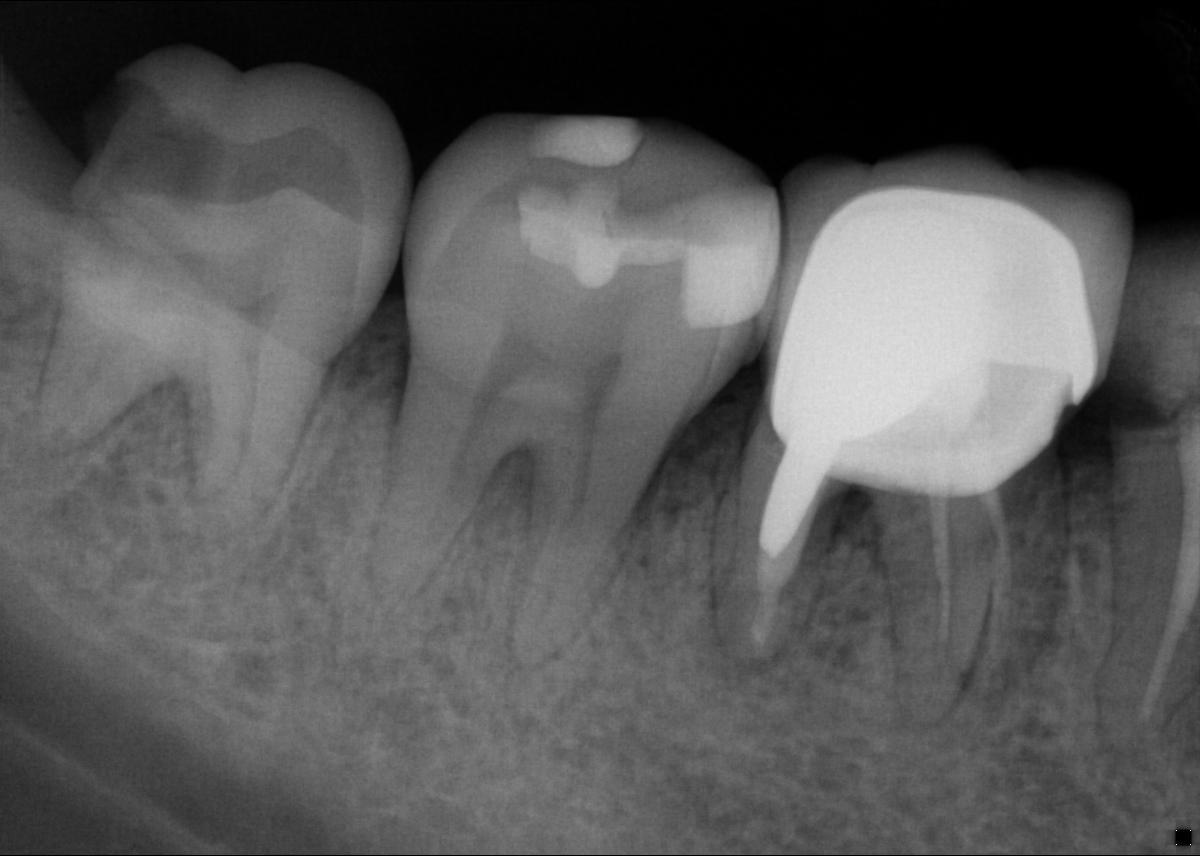Endo-Periodontal Lesion: (809, 490, 887, 570), (474, 446, 536, 541)
Furcation Involvement: (692, 580, 826, 685)
